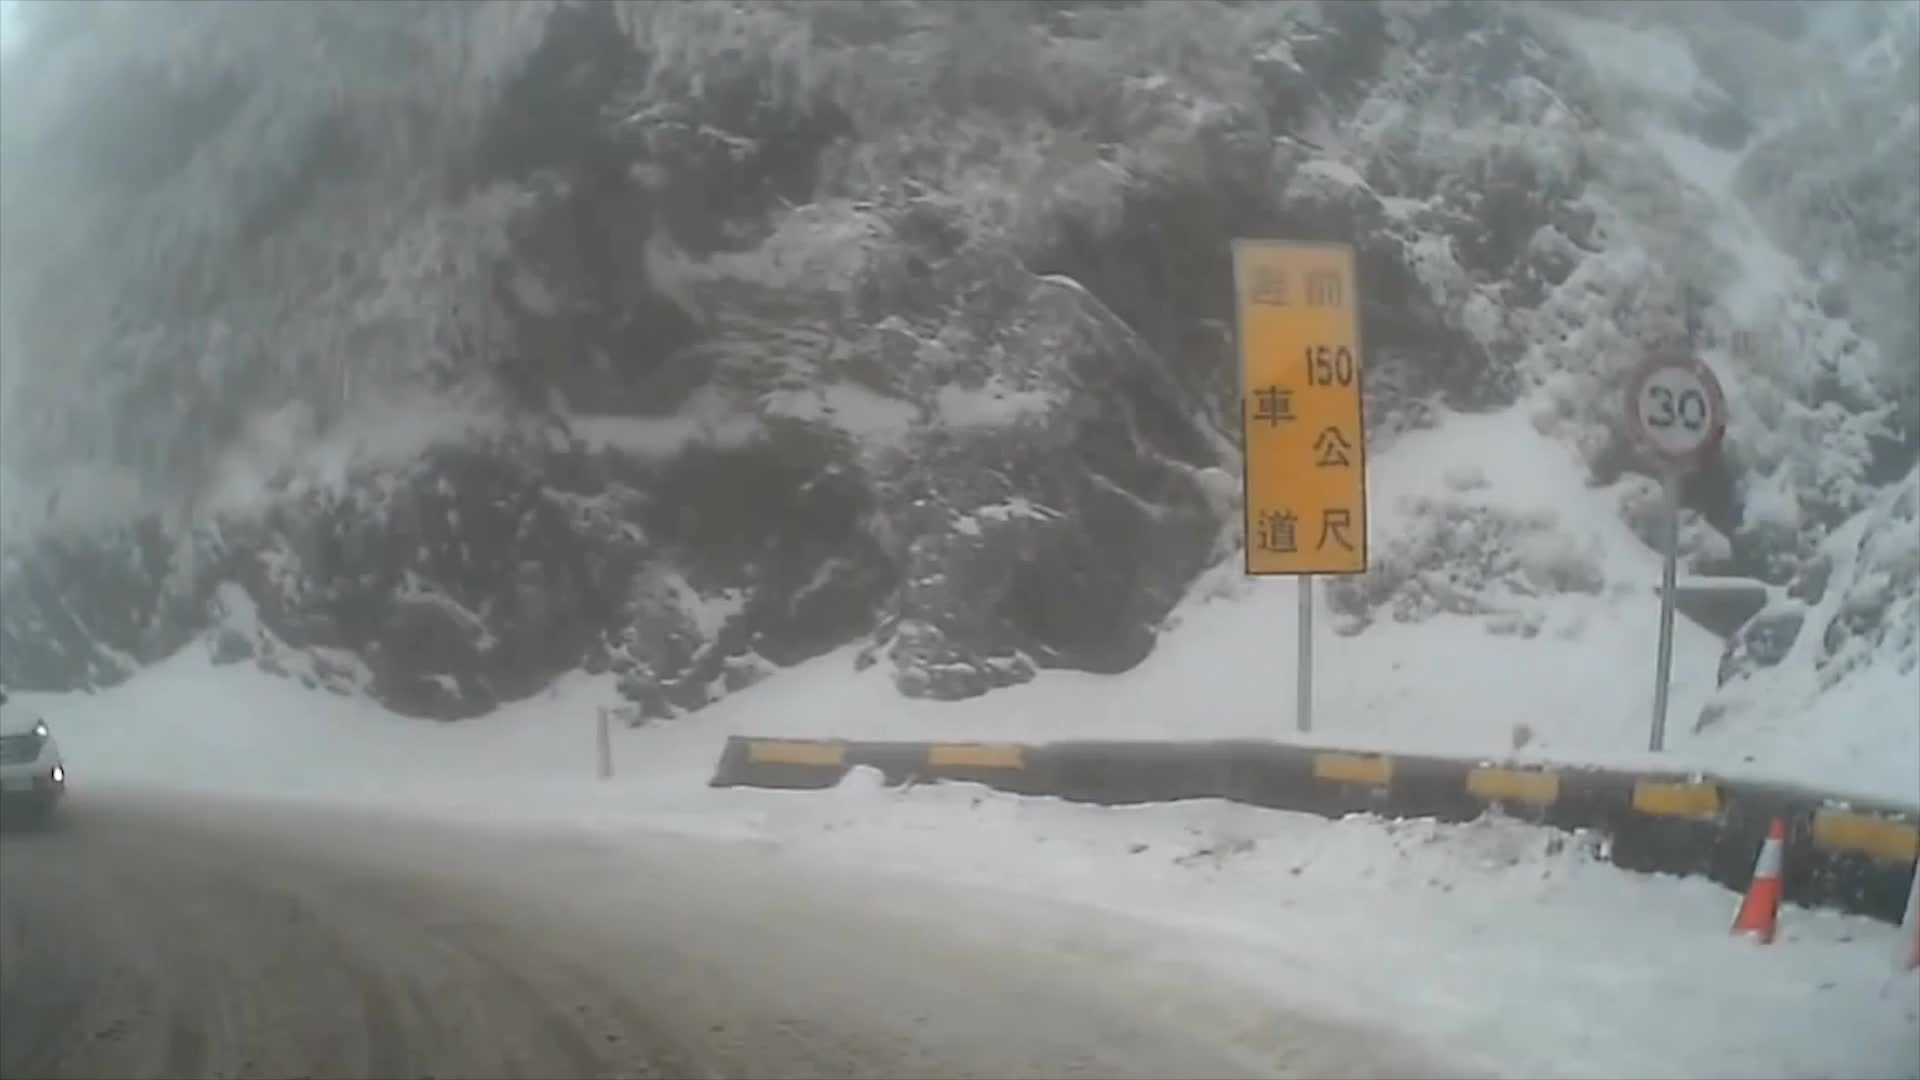vehicle: (0, 684, 65, 831)
